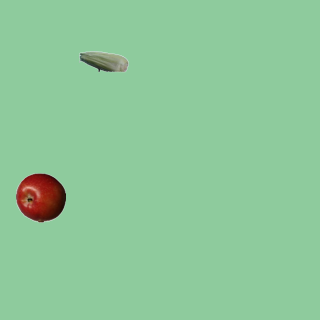Apple Braeburn: (15, 172, 65, 222)
Corn Husk: (78, 36, 128, 86)
